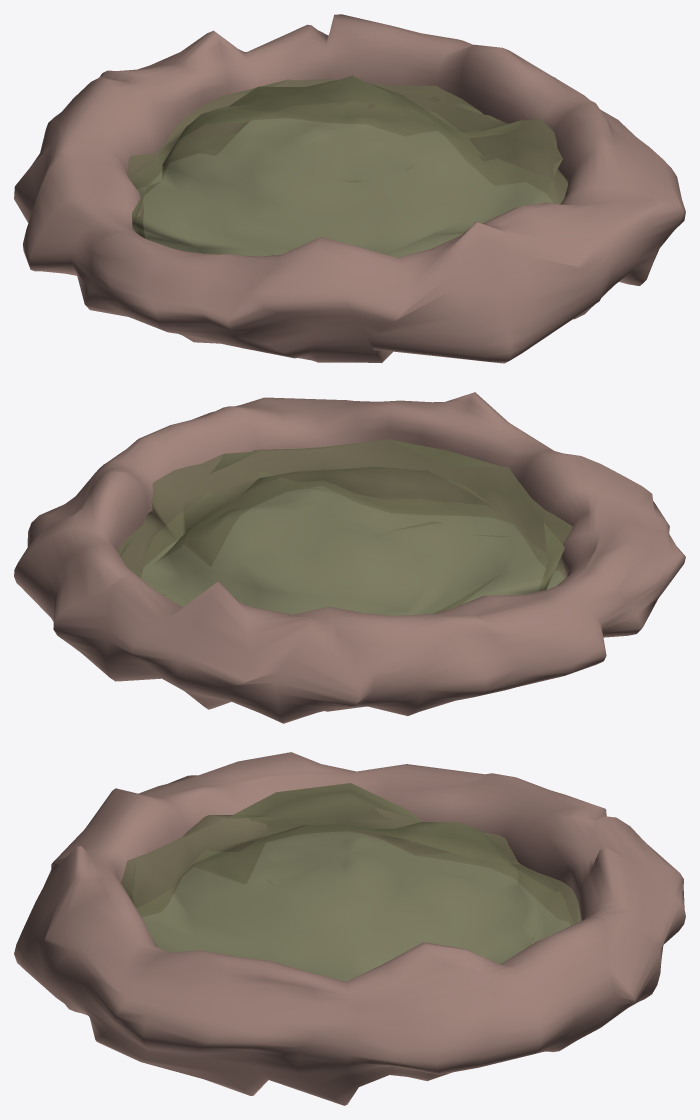
The model's file is Bacteria_Main.fbx.
The picture shows the model from 3 angles, top to bottom: view 1: azimuth 30°, elevation 25°; view 2: azimuth 150°, elevation 25°; view 3: azimuth 270°, elevation 25°; orthographic projection. The views are drawn at different scales.
Parts seen in each view (by area): view 1: Cell_Wall, Main_Body; view 2: Cell_Wall, Main_Body; view 3: Cell_Wall, Main_Body.
Boxes of the visible parts, x1,y1,x2,y2 form: Cell_Wall: (14,14,685,363); Main_Body: (127,75,568,257); Cell_Wall: (14,392,685,723); Main_Body: (116,439,572,615); Cell_Wall: (14,752,685,1105); Main_Body: (120,783,581,981).
Bounding box in the file's own units: 28.46 × 7.61 × 28.92.
